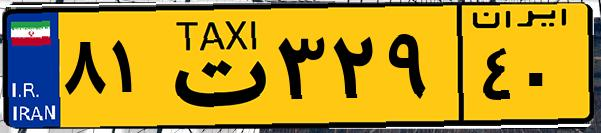0: (525, 38, 570, 115)
1: (110, 28, 158, 98)
2: (330, 28, 385, 110)
3: (270, 28, 330, 110)
4: (475, 38, 525, 113)
8: (57, 26, 110, 100)
9: (385, 28, 445, 110)
ت: (158, 12, 270, 120)
